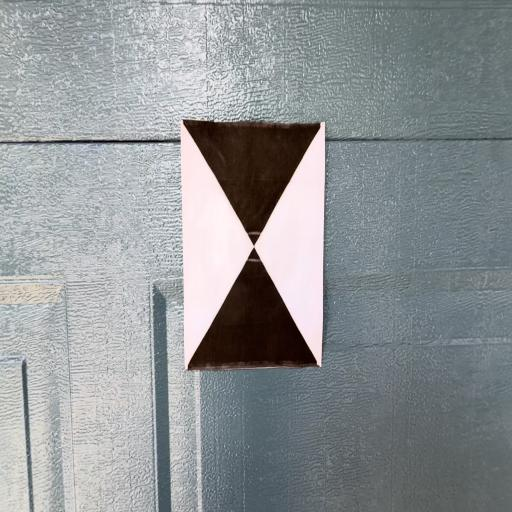target: (180, 122, 322, 368)
